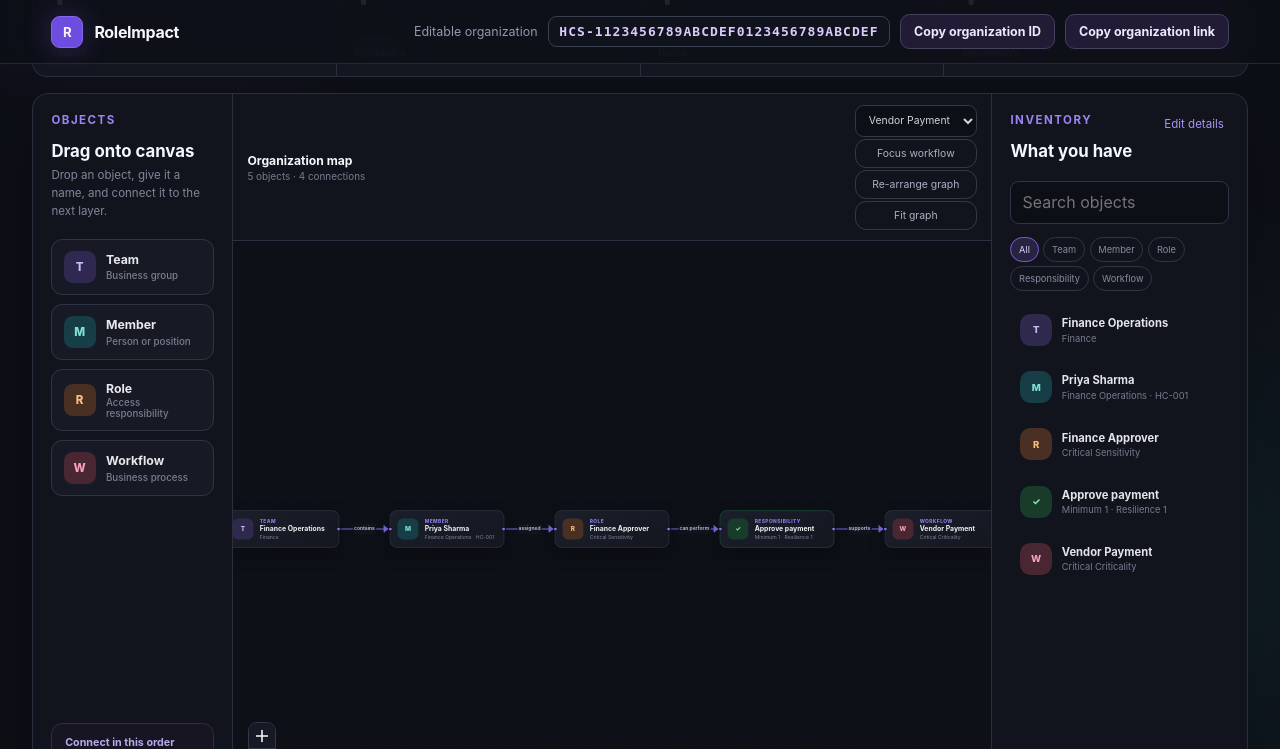
Test: App › reuses a map role with its complete holder set in one role request
(page scrolled)
Click the button with aria-label "Add Role": {"x": 132, "y": 400} [51,369,214,431]
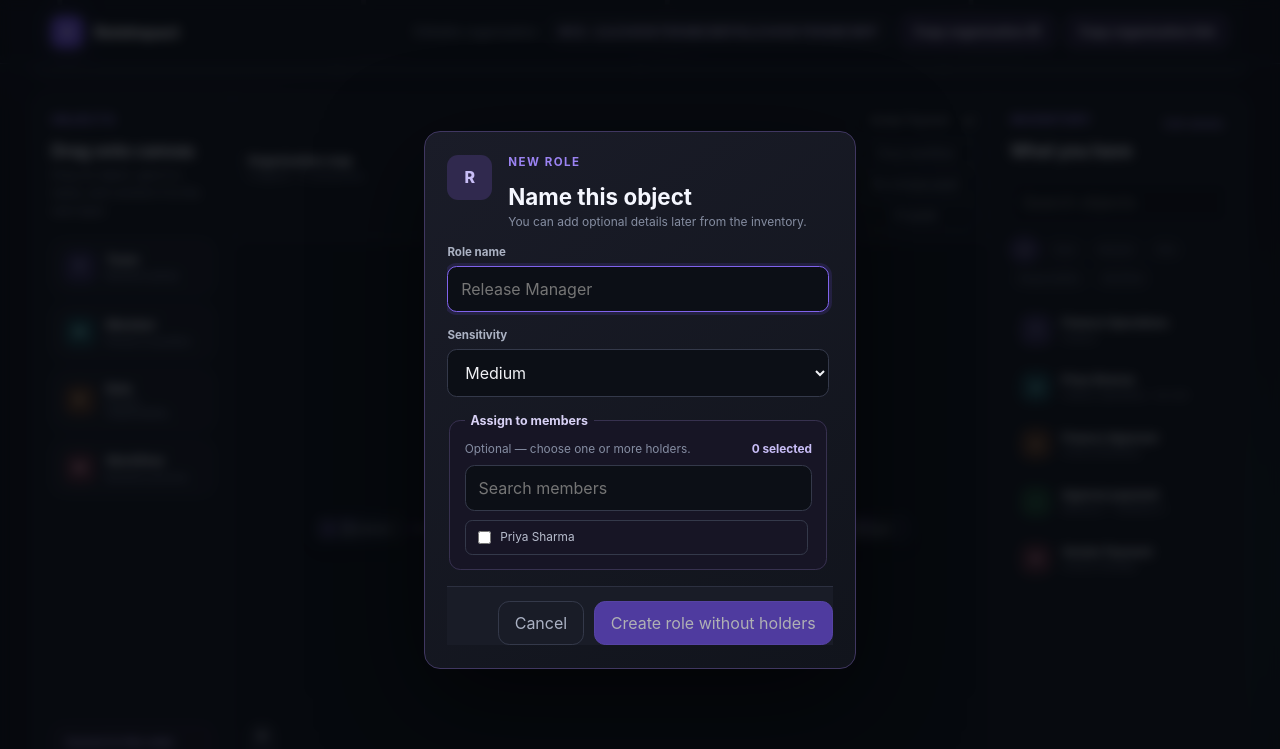
In the field labelled "Role name": {"x": 638, "y": 289} [447,266,829,312], type "Finance Approver"
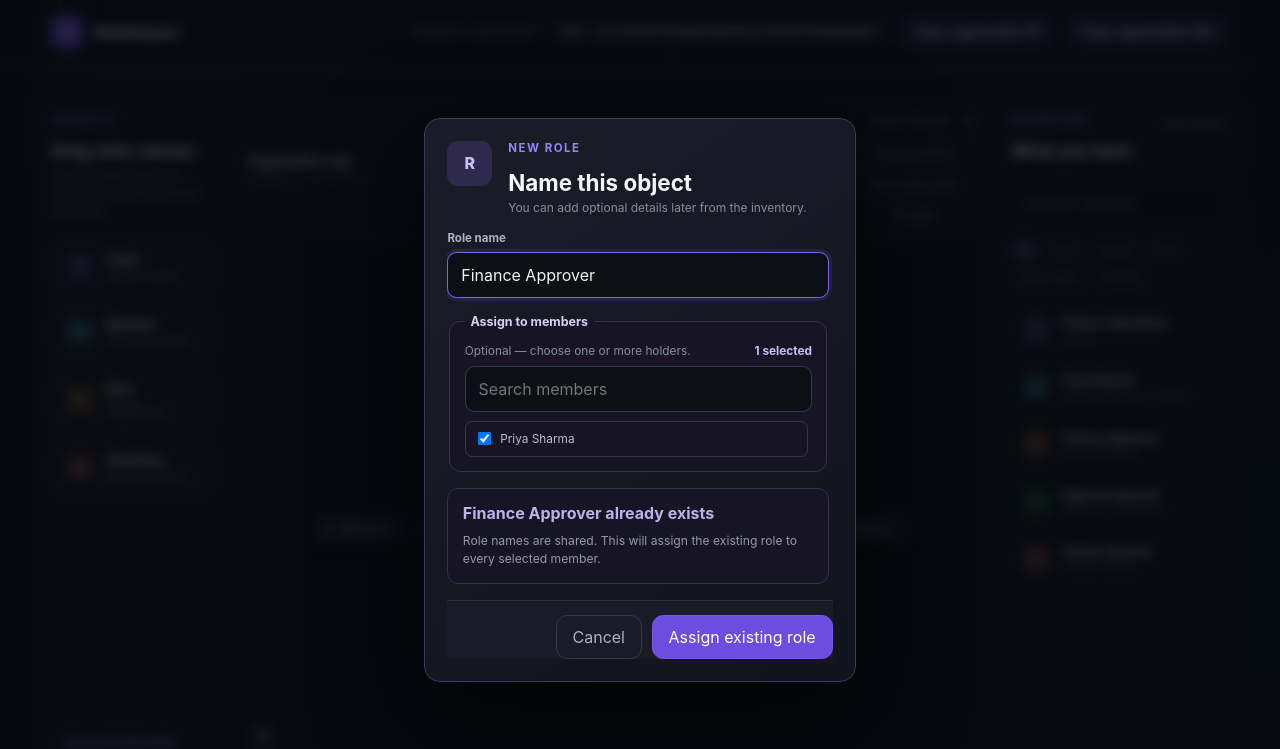
Check: the checkbox labelled "Priya Sharma" is checked, box [478,432,491,445]
Click the button "Assign existing role": {"x": 742, "y": 637} [652,615,833,659]
(page scrolled)
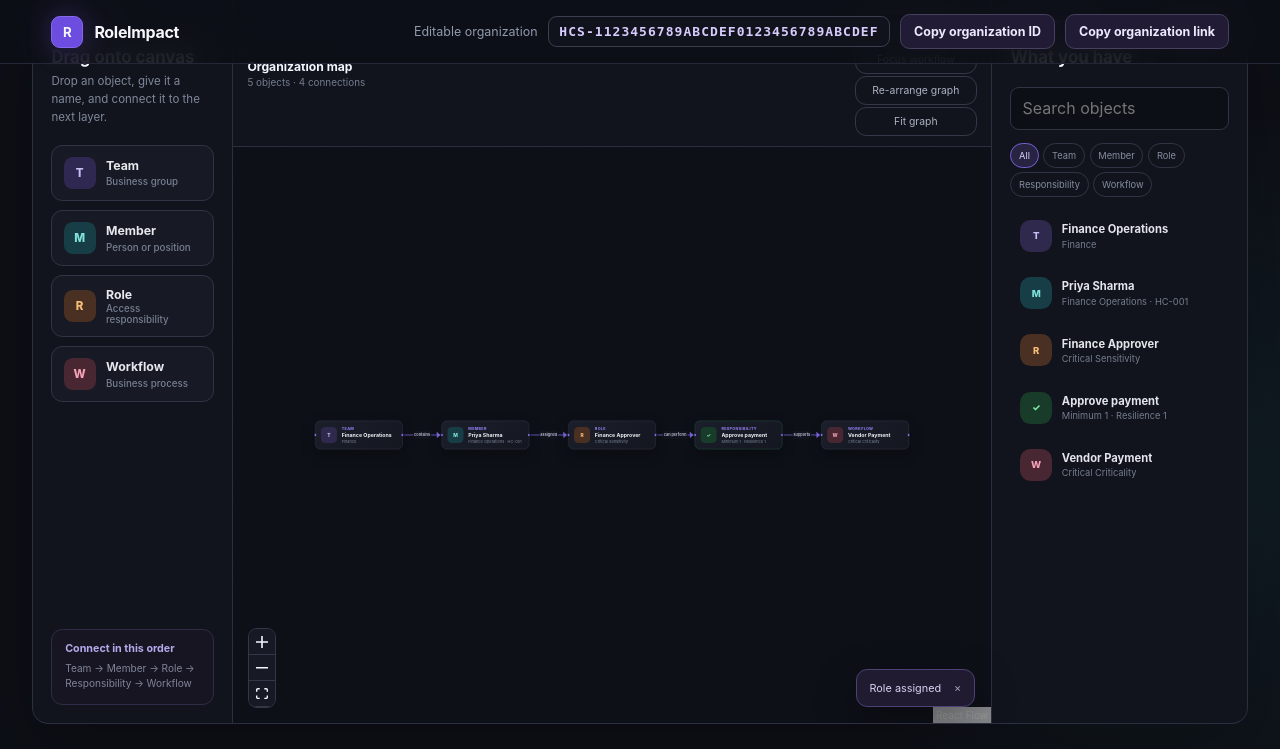
Check: the text "Role assigned" is shown, box [870,681,941,695]
